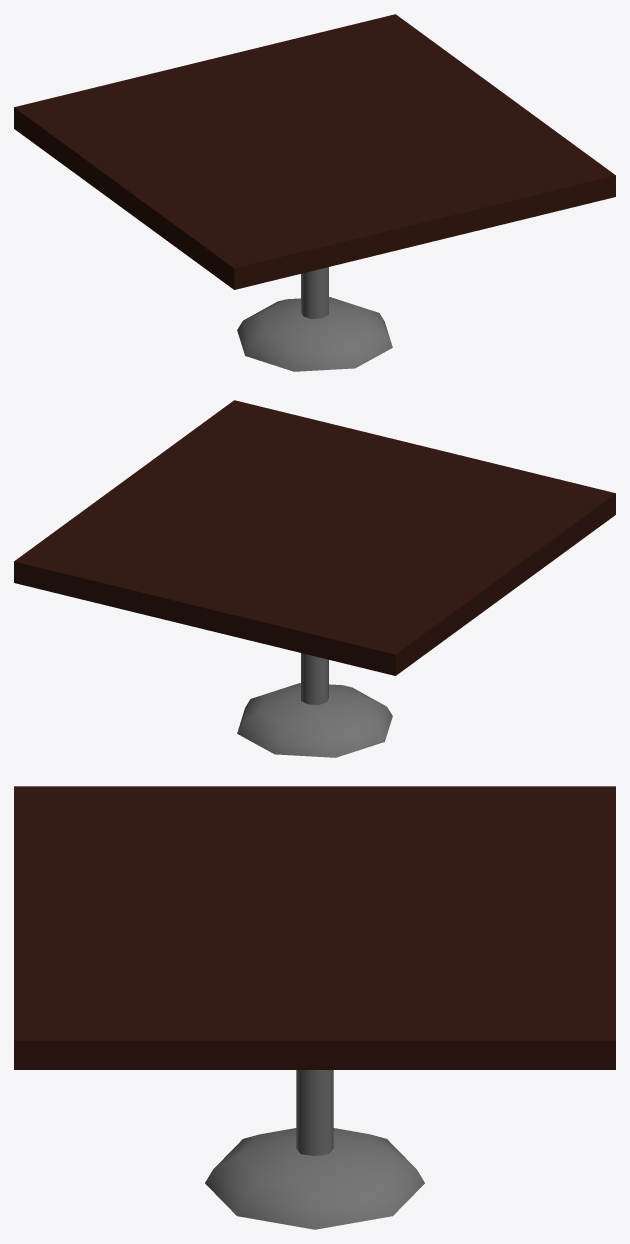
The model's file is table.fbx.
3 renders of one model, top to bottom at view 1: azimuth 30°, elevation 25°; view 2: azimuth 150°, elevation 25°; view 3: azimuth 270°, elevation 25°, orthographic. The views are drawn at different scales.
Parts seen in each view (by area): view 1: table_combined; view 2: table_combined; view 3: table_combined.
Part boxes in pixels (x1=…): table_combined: x1=14, y1=14, x2=615, y2=371; table_combined: x1=14, y1=400, x2=615, y2=757; table_combined: x1=14, y1=786, x2=615, y2=1229.
Bounding box in the file's own units: 8 × 3.96 × 8.
